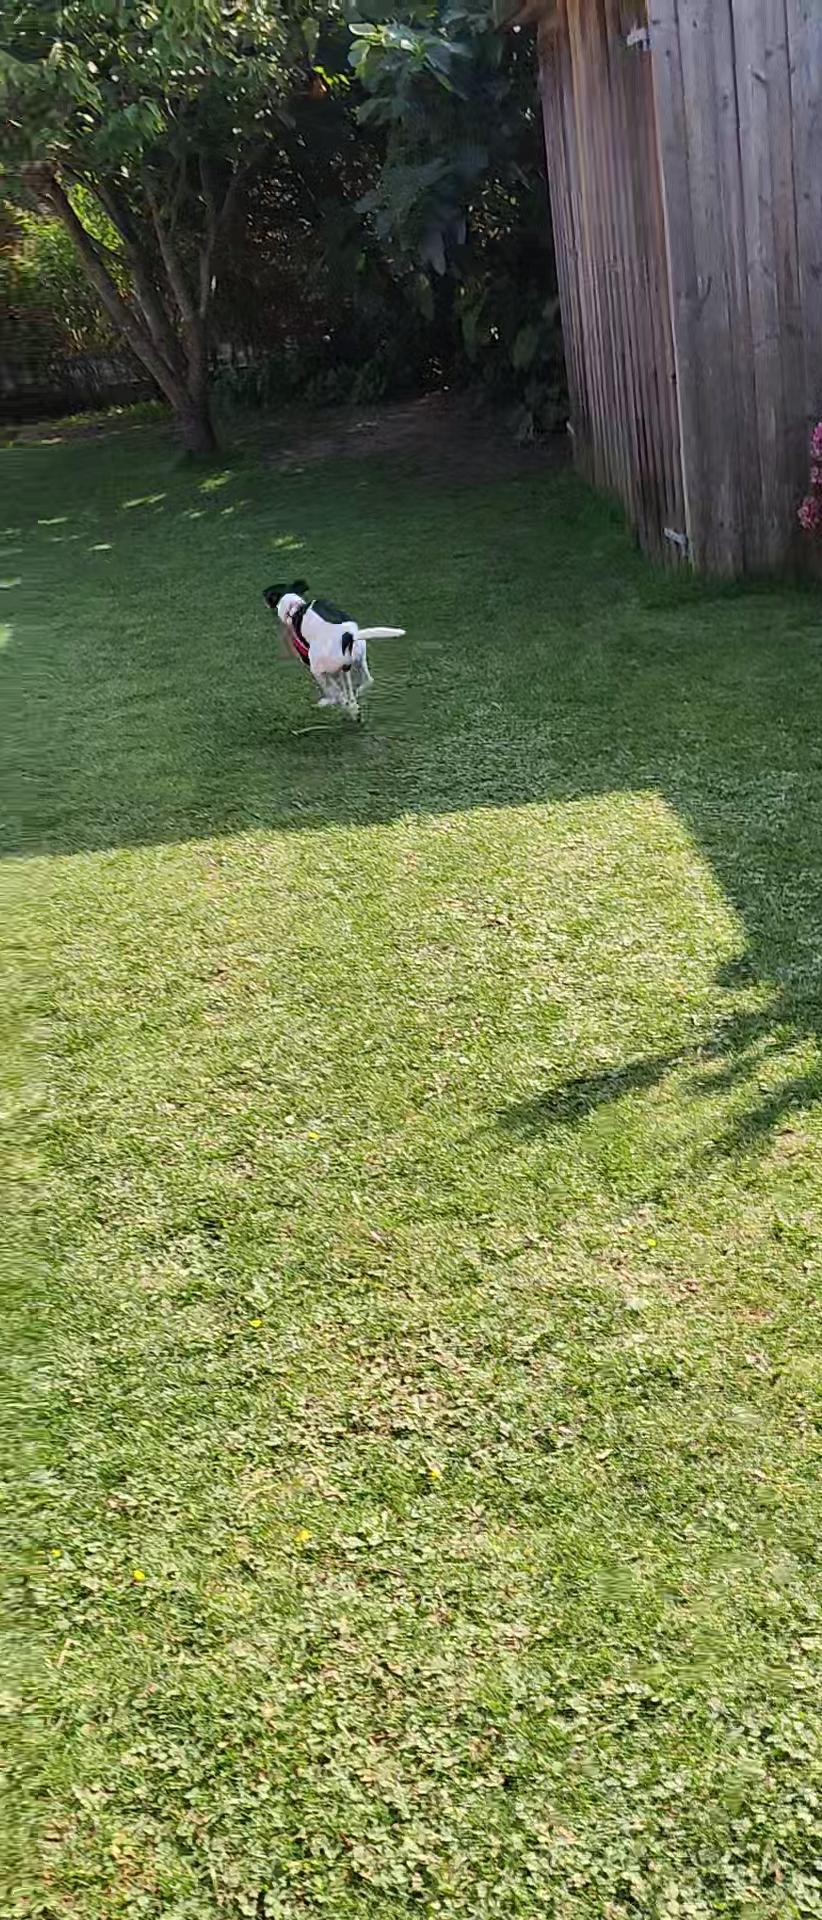Dog: (254, 568, 420, 730)
